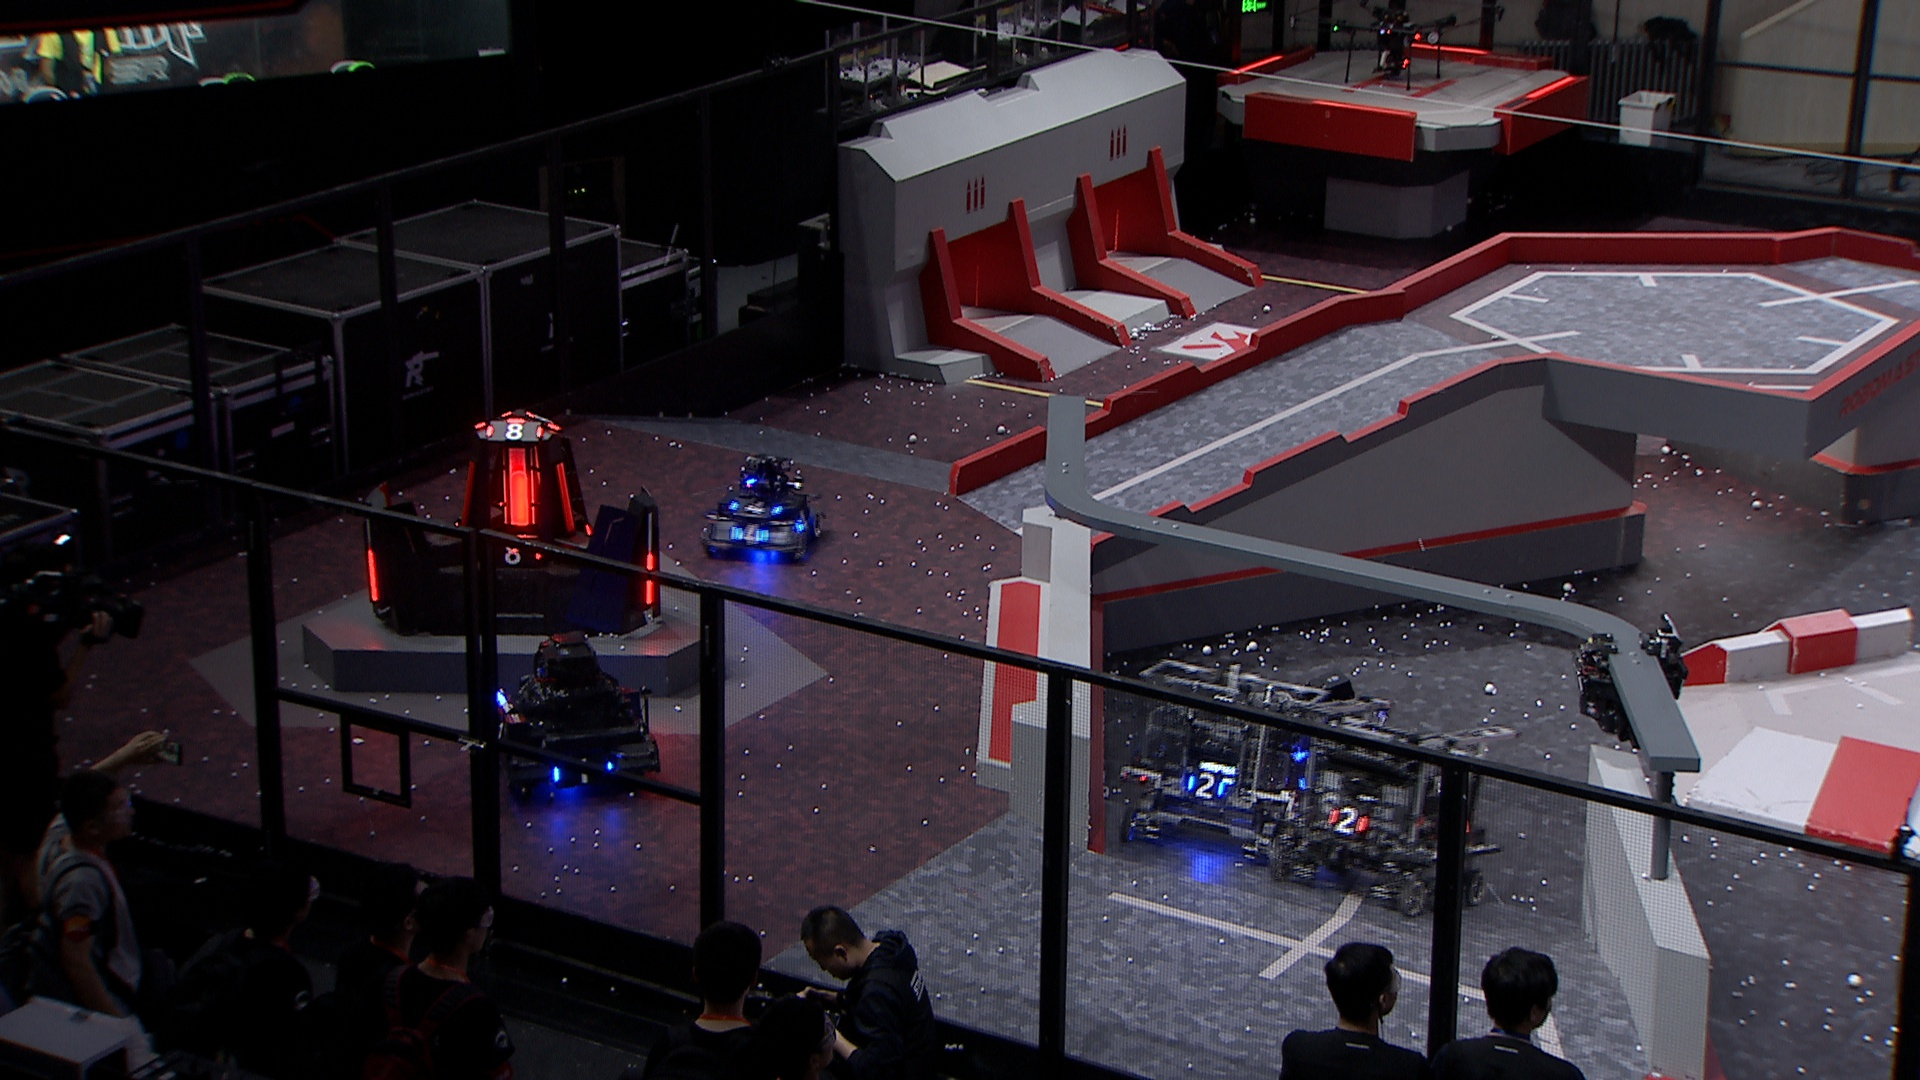armor: (500, 448, 539, 531), (483, 533, 551, 570), (451, 458, 480, 537), (550, 462, 580, 534), (551, 756, 615, 790), (1321, 803, 1371, 839), (483, 415, 547, 442), (1185, 769, 1228, 804), (724, 496, 785, 518), (361, 549, 384, 605), (727, 522, 771, 547), (790, 506, 820, 533), (641, 550, 654, 609), (487, 716, 512, 746)
base: (361, 404, 662, 636)
car: (1122, 642, 1335, 880), (1266, 698, 1495, 916), (487, 622, 661, 803), (698, 450, 829, 564)
watcher: (1571, 611, 1687, 746)
